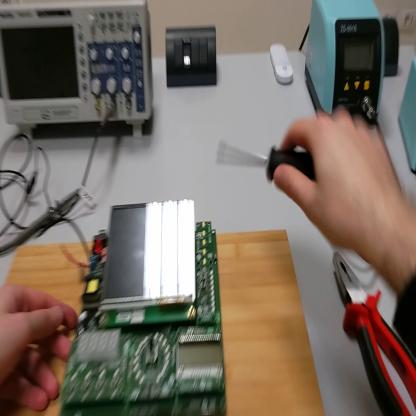hand: (274, 108, 402, 260), (2, 274, 81, 416)
low voltage board: (65, 200, 231, 416)
oscilloscope: (3, 2, 153, 140)
oscilloscope probe tip: (2, 191, 84, 254)
pliers: (332, 254, 416, 414)
screwdriver-: (217, 140, 316, 182)
welder base: (401, 53, 416, 176)
welder station: (306, 3, 385, 122)
working area: (7, 234, 324, 416)
